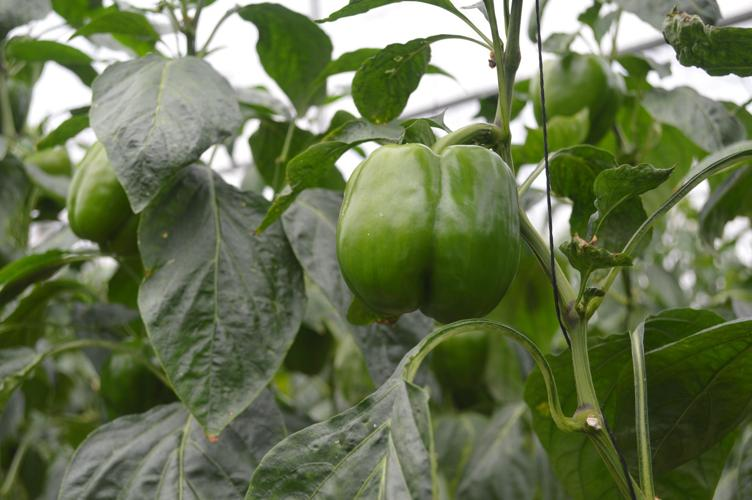BellPepper: (339, 147, 522, 327), (61, 139, 141, 256), (527, 52, 623, 143), (91, 342, 164, 410)
